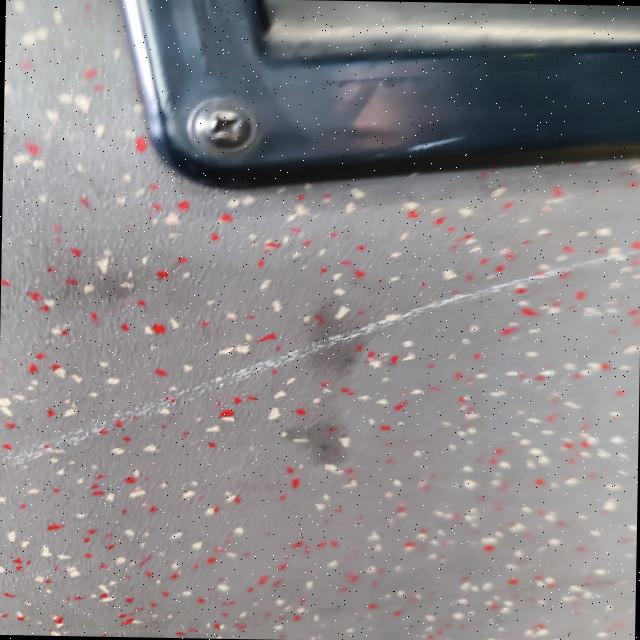Phillips: (194, 106, 256, 147)
